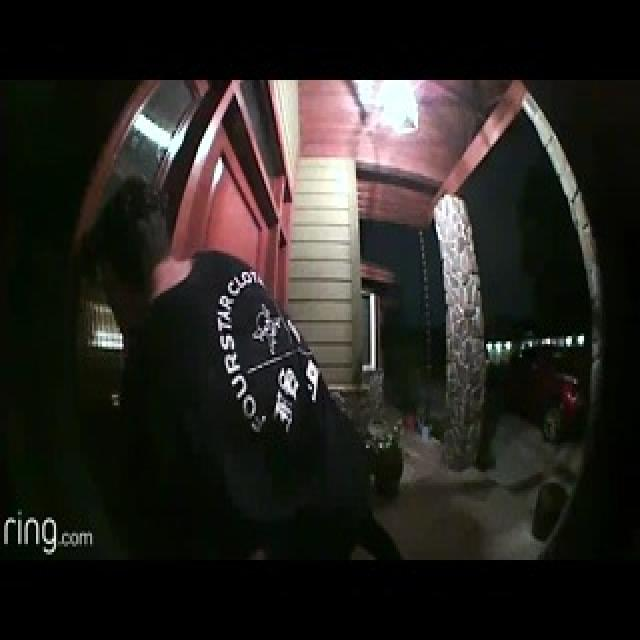thief: (98, 156, 210, 376)
